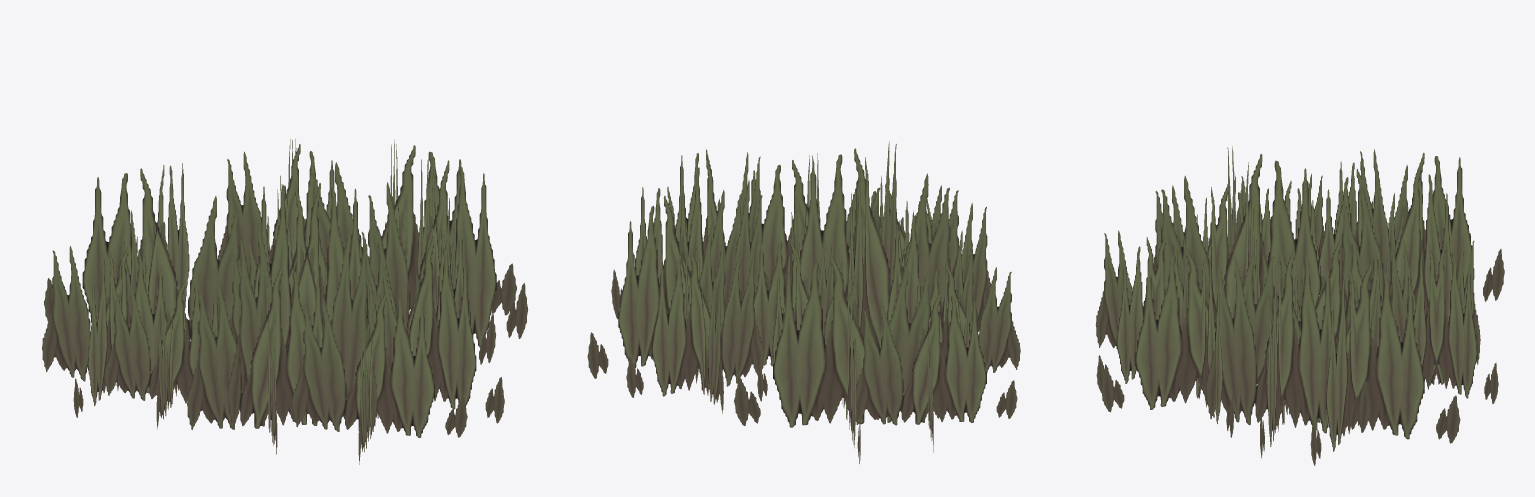
The model's file is Prop_Grass_01.FBX.
3 renders of one model, left to right at view 1: azimuth 30°, elevation 25°; view 2: azimuth 150°, elevation 25°; view 3: azimuth 270°, elevation 25°, orthographic. The views are drawn at different scales.
Parts seen in each view (by area): view 1: Prop_Grass_01; view 2: Prop_Grass_01; view 3: Prop_Grass_01.
Part boxes in pixels (x1,y1,x2,y2): Prop_Grass_01: (42,139,528,464); Prop_Grass_01: (587,141,1020,463); Prop_Grass_01: (1095,146,1504,465).
Size of the model in its own units: 3.6 by 2.26 by 3.14.
Materials: 1 (1 with a texture image).
